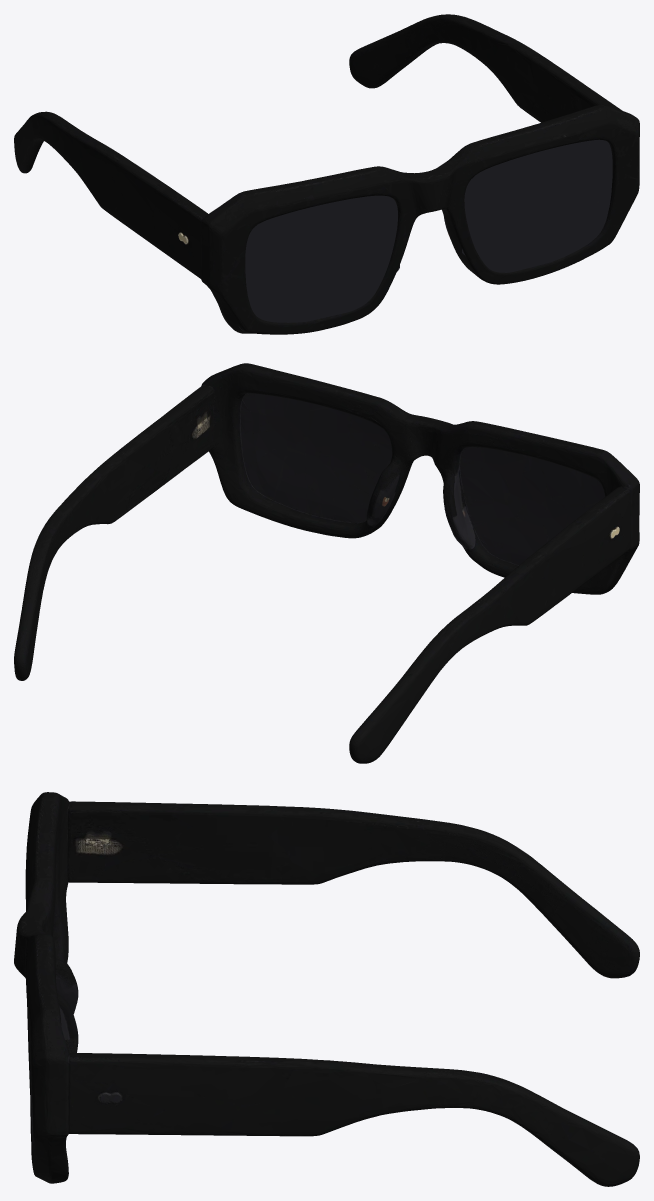
Rendered from lynxxx-shades.glb.
3 views of the same model, one above another, from view 1: azimuth 30°, elevation 25°; view 2: azimuth 150°, elevation 25°; view 3: azimuth 270°, elevation 25° (orthographic). The views are drawn at different scales.
Size of the model in its own units: 14.6 by 4.82 by 14.76.
2 materials, 1 textured.
